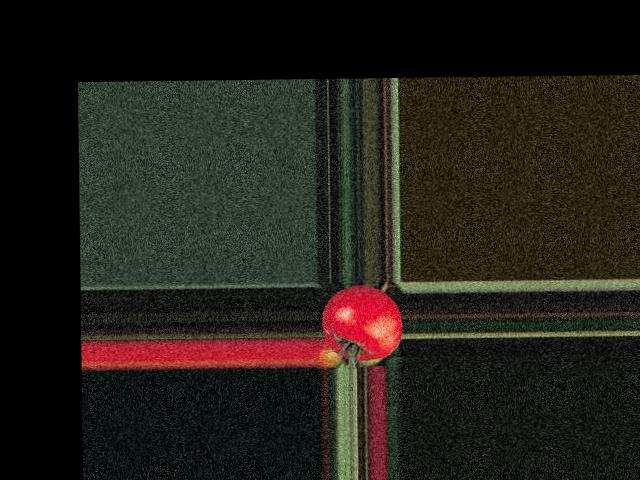tomato: (323, 284, 402, 360)
